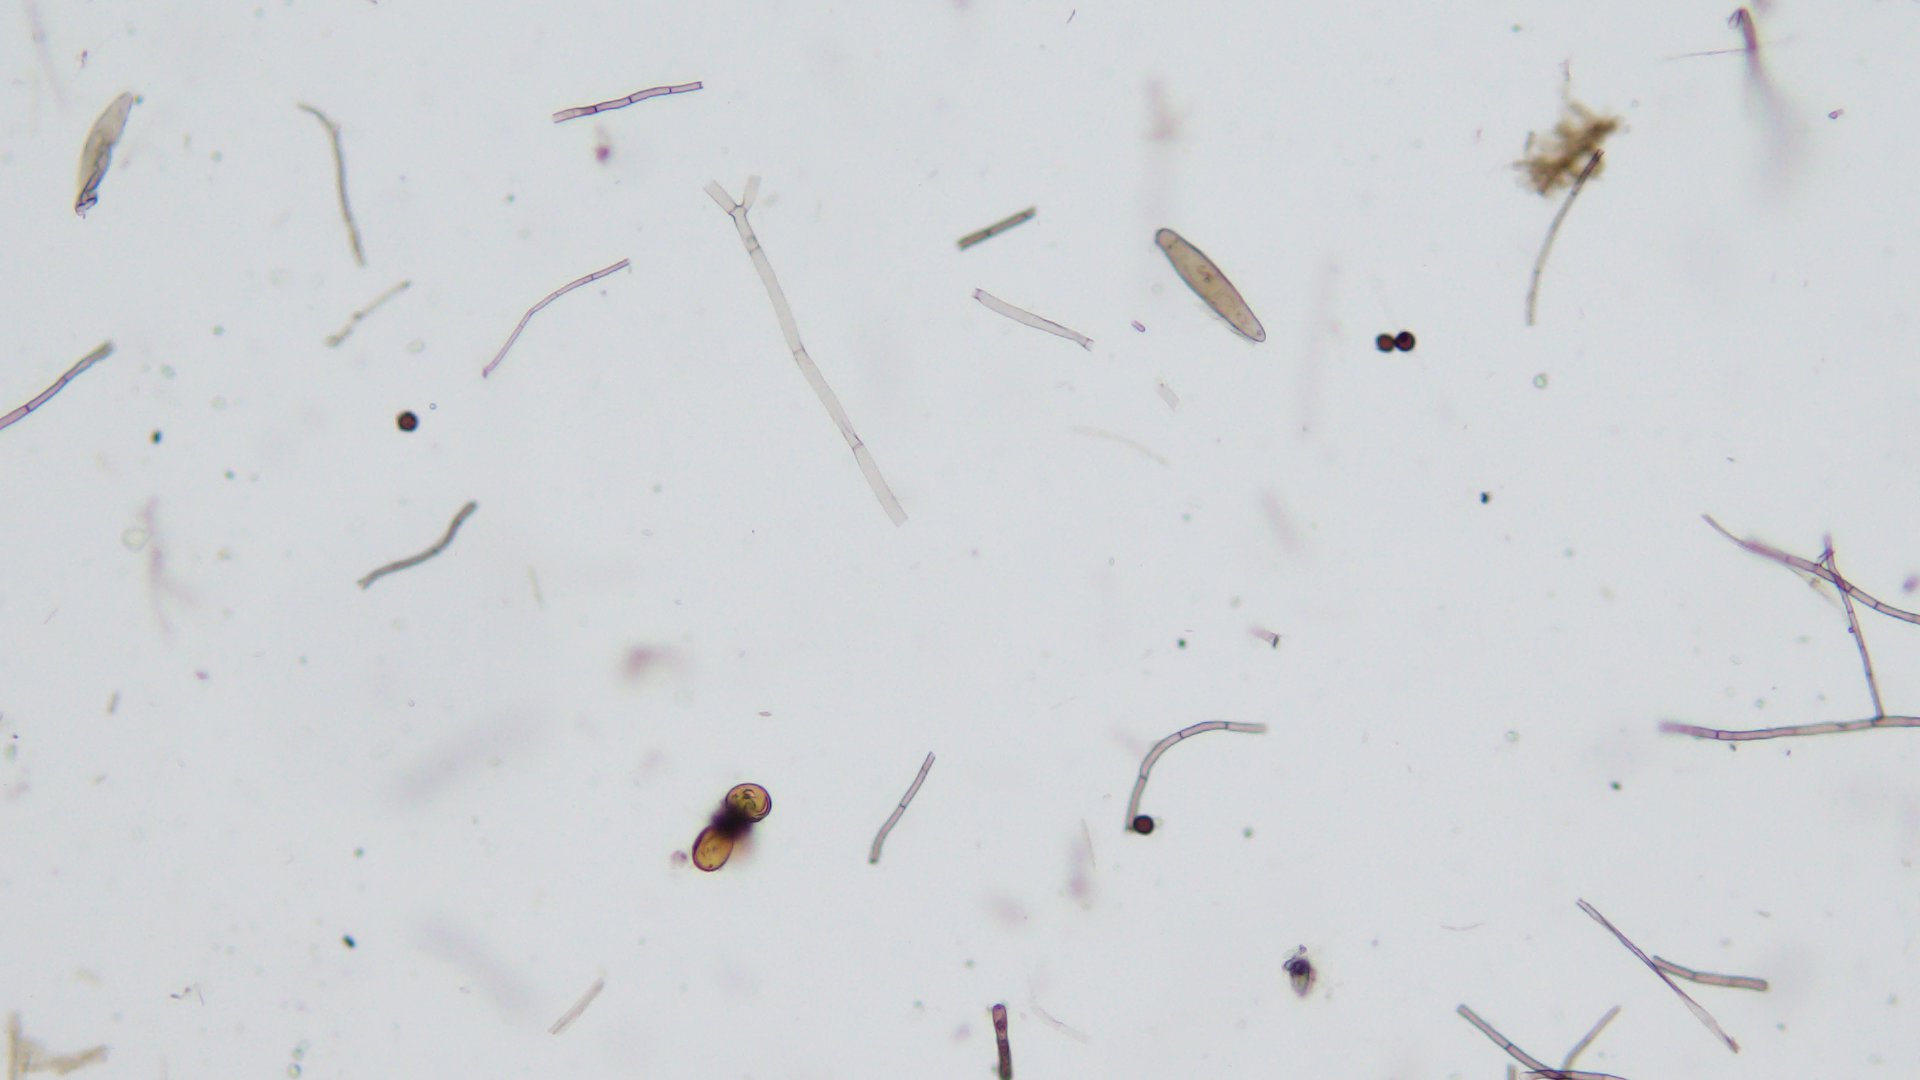dbb_spore: (1153, 227, 1269, 344)
shs_spore: (1130, 815, 1156, 837), (397, 411, 419, 433), (1395, 332, 1416, 353), (1375, 334, 1393, 352)
xb_spore: (688, 825, 736, 872), (724, 782, 773, 824)
